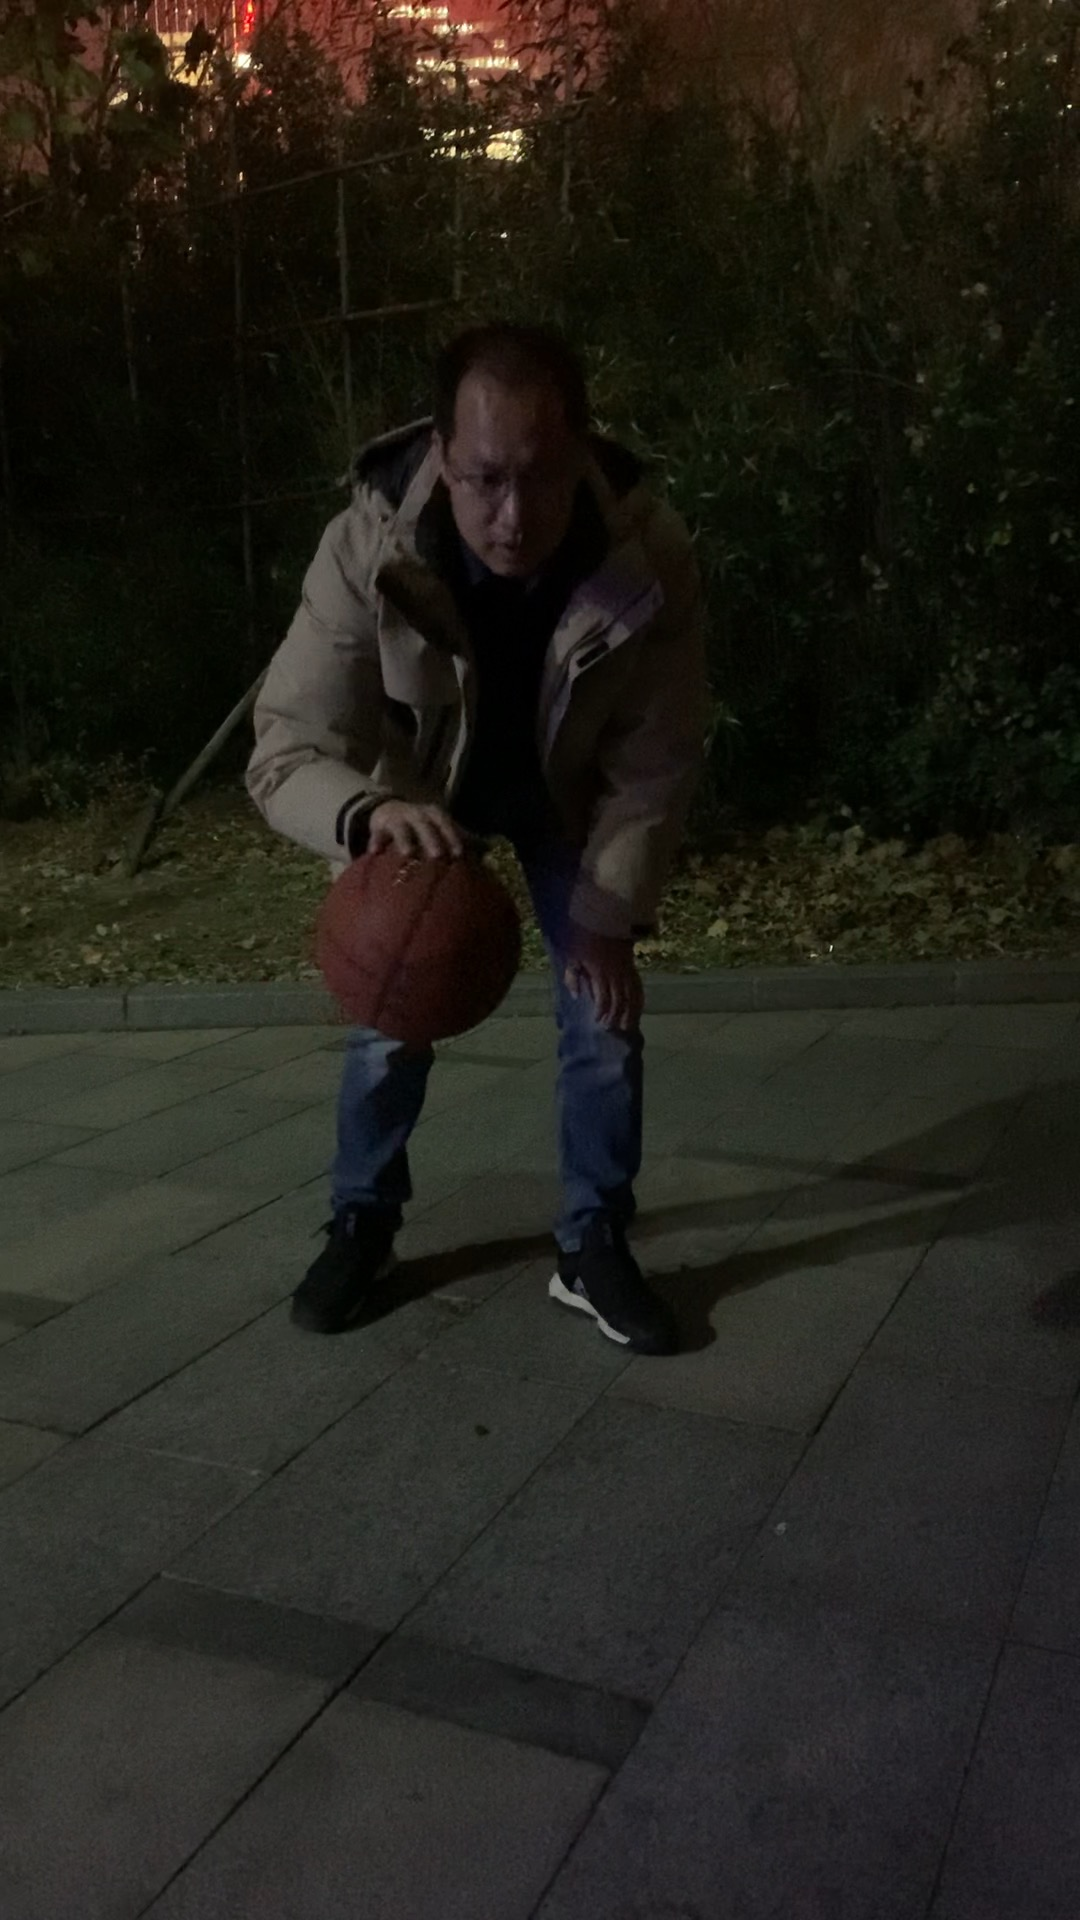ball: (320, 843, 527, 1043)
